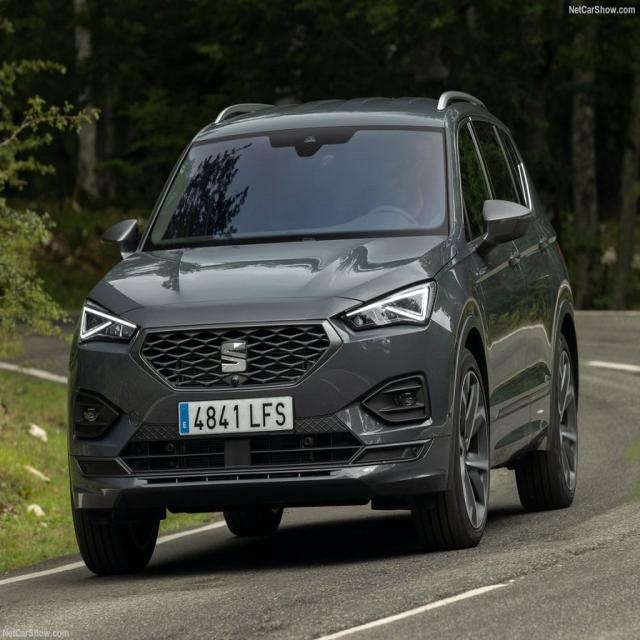License-Plate: (177, 395, 294, 437)
